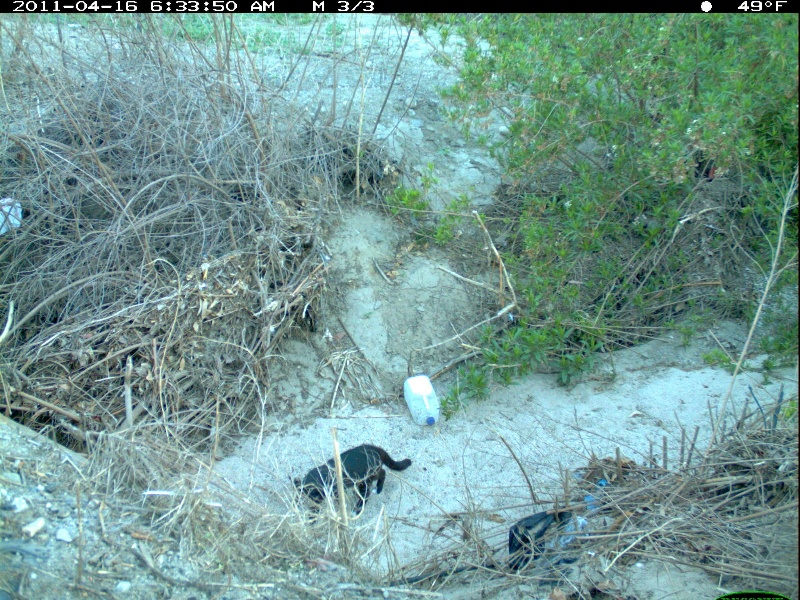cat: (294, 439, 412, 522)
